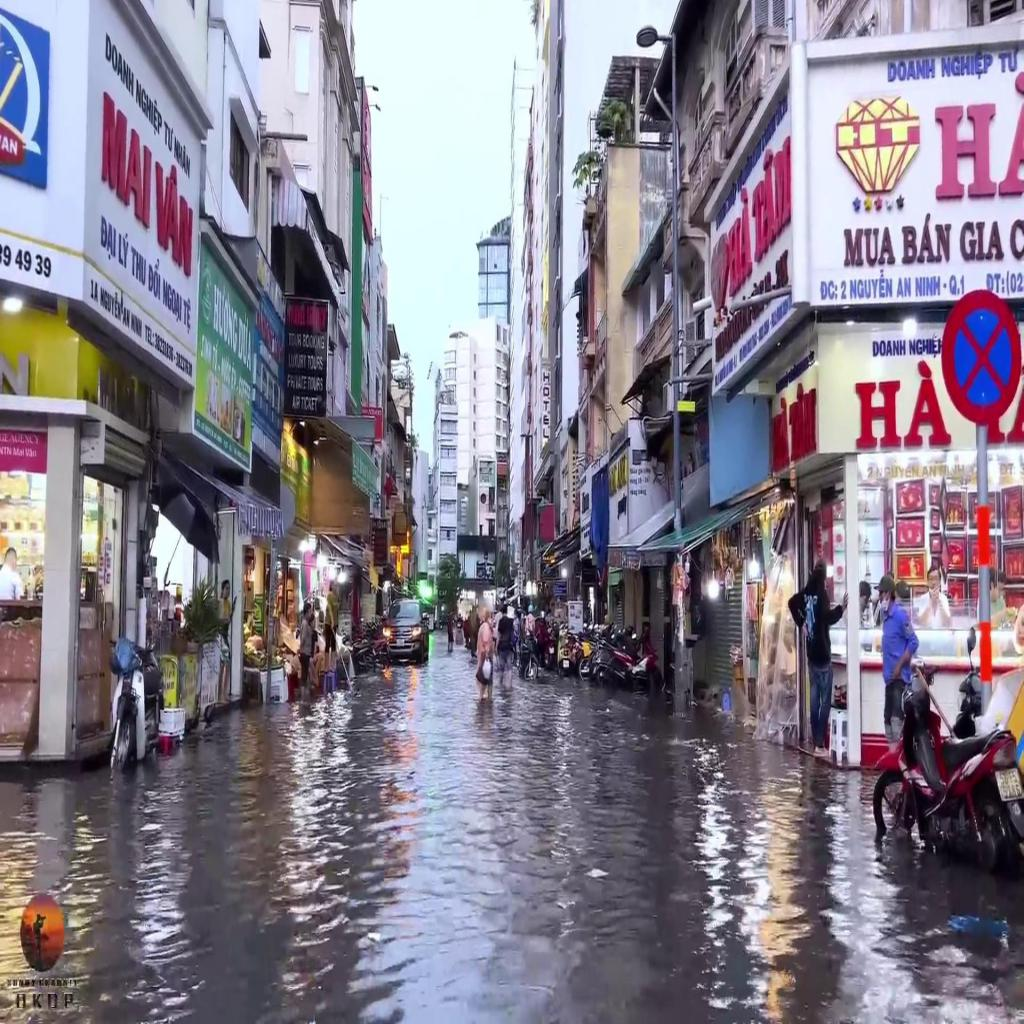cam_dung_xe_va_do_xe: (941, 287, 1022, 426)
